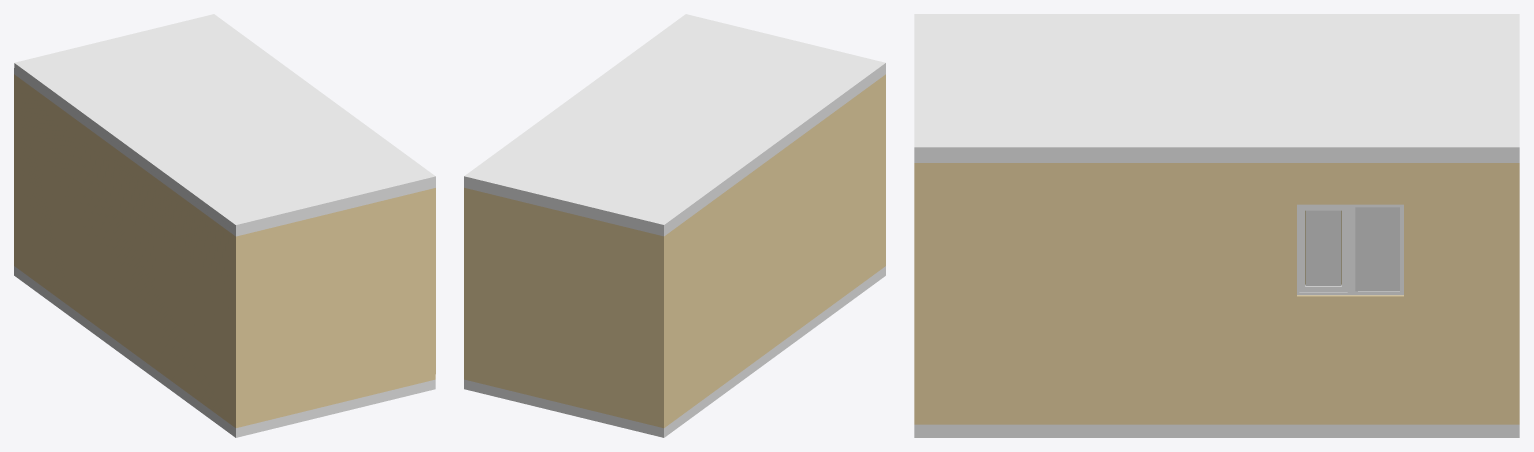
The model's file is FloorPlan26_physics.fbx.
3 renders of one model, left to right at view 1: azimuth 30°, elevation 25°; view 2: azimuth 150°, elevation 25°; view 3: azimuth 270°, elevation 25°, orthographic. The views are drawn at different scales.
Parts seen in each view (by area): view 1: Room.025, Ceiling.001, Floor.001; view 2: Room.025, Ceiling.001, Floor.001; view 3: Room.025, Ceiling.001, Floor.001, WindowPane, WindowFrame.
Part boxes in pixels (bbox=[...]): Room.025: bbox=[14, 74, 435, 427]; Ceiling.001: bbox=[14, 14, 435, 236]; Floor.001: bbox=[14, 266, 435, 437]; Room.025: bbox=[464, 74, 885, 428]; Ceiling.001: bbox=[464, 14, 885, 236]; Floor.001: bbox=[464, 266, 885, 437]; Room.025: bbox=[914, 163, 1519, 424]; Ceiling.001: bbox=[914, 14, 1519, 162]; Floor.001: bbox=[914, 424, 1519, 437]; WindowPane: bbox=[1305, 207, 1399, 291]; WindowFrame: bbox=[1297, 204, 1403, 295].
Bounding box in the file's own units: 262 × 268 × 503.
